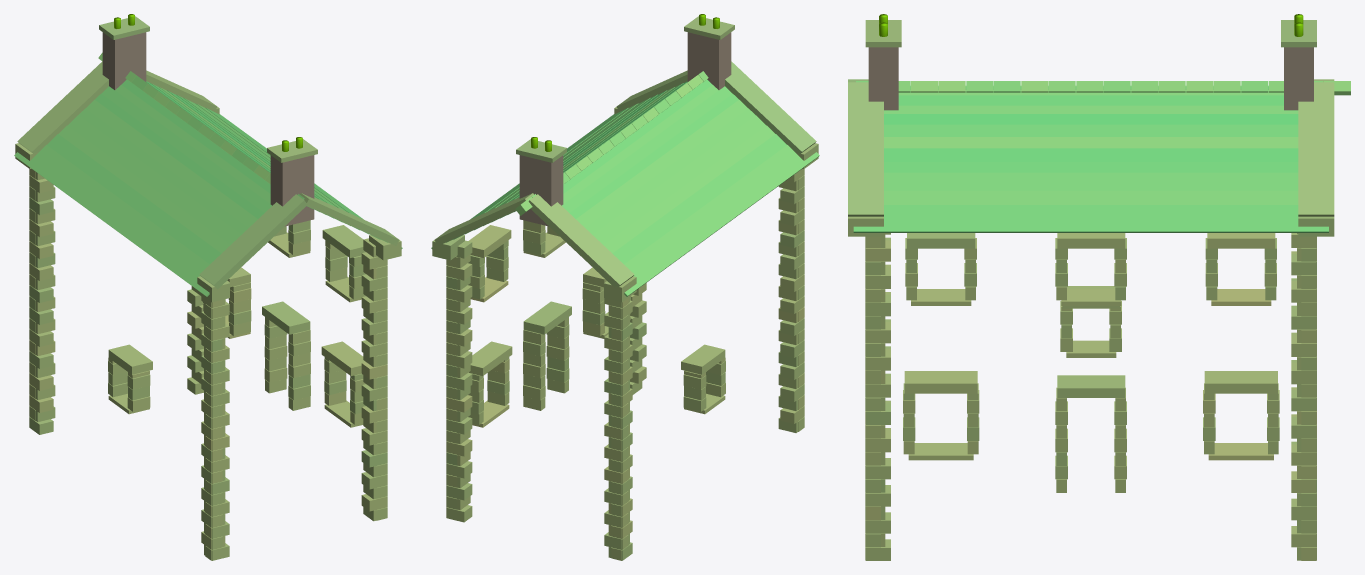
File: SM_Bld_076_Stone.glb
3 renders of one model, left to right at view 1: azimuth 30°, elevation 25°; view 2: azimuth 150°, elevation 25°; view 3: azimuth 270°, elevation 25°, orthographic. The views are drawn at different scales.
Visible parts, largest first — view 1: SM_Bld_076_Stone; view 2: SM_Bld_076_Stone; view 3: SM_Bld_076_Stone.
Part boxes in pixels (x1,y1,x2,y2): SM_Bld_076_Stone: [14, 14, 402, 560]; SM_Bld_076_Stone: [431, 14, 819, 560]; SM_Bld_076_Stone: [848, 14, 1350, 560].
Bounding box in the file's own units: 5.61 × 10.76 × 10.05.
